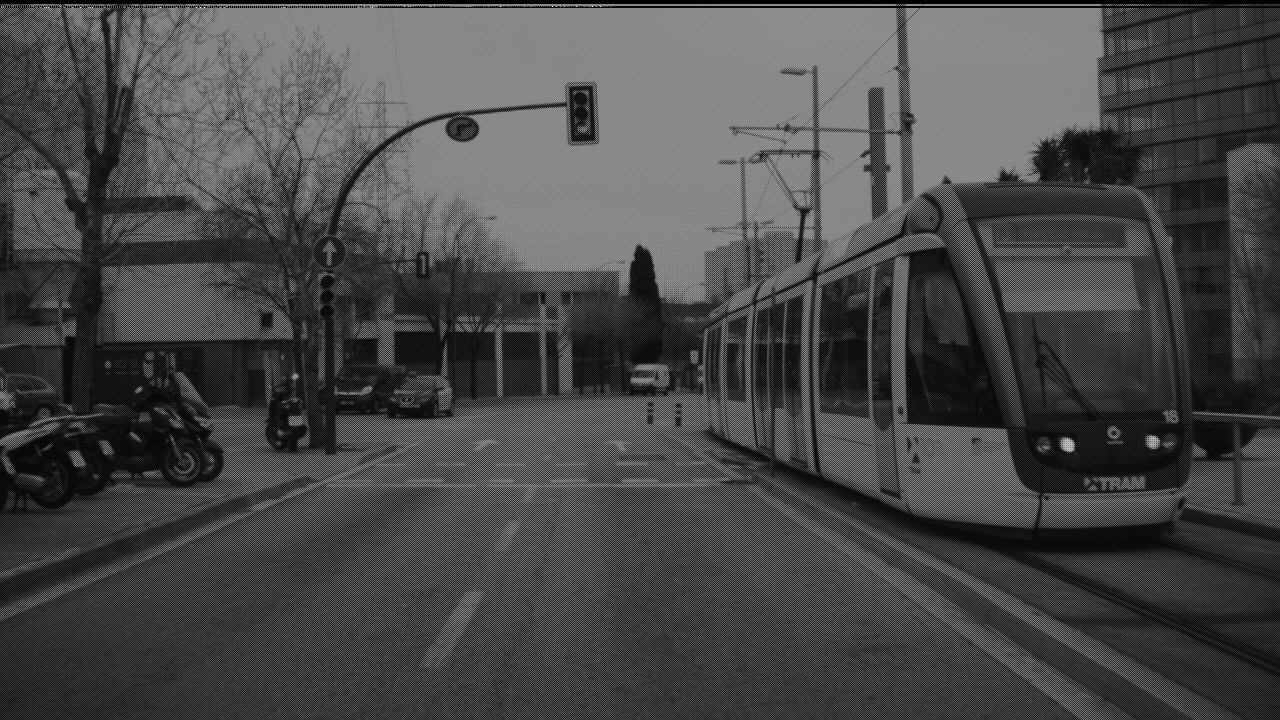pole: (322, 184, 343, 446), (896, 1, 915, 195), (868, 87, 888, 221), (809, 65, 823, 251), (739, 156, 752, 282)
